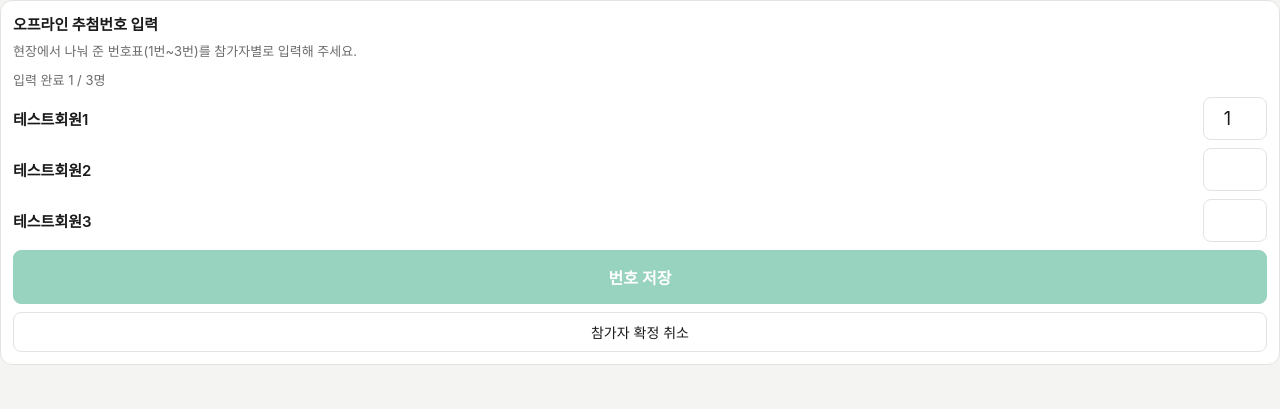
it: drawReady — 번호 입력 › ★ 새로 입력한 번호가 이미 저장된(props) 다른 참가자의 번호와 겹치면 중복으로 잡는다
Type "1" into the number field named "테스트회원2 추첨번호".
click(1235, 169); type("1")  # box [1203, 148, 1267, 190]
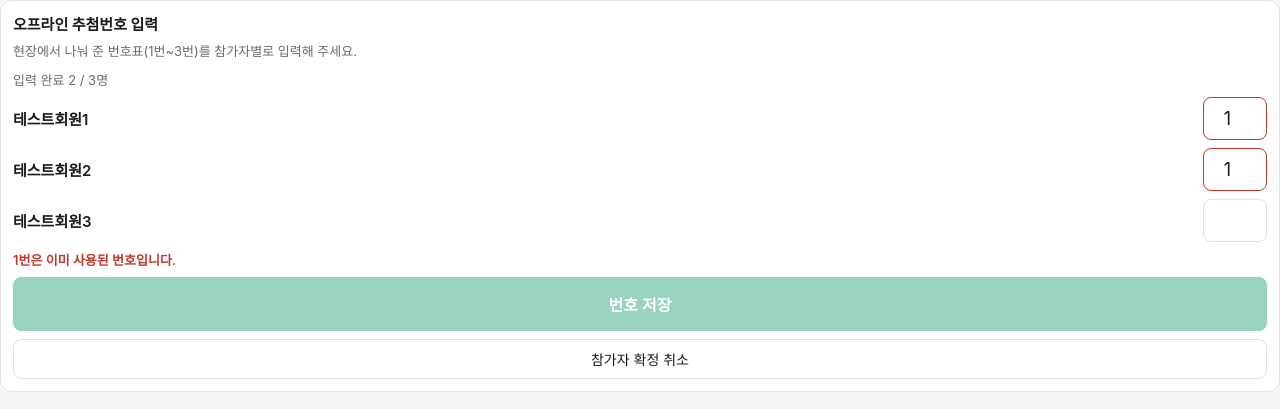
Expected: the button "번호 저장" is disabled, [13, 276, 1267, 330]
Expected: the text "1번은 이미 사용된 번호입니다." is shown, [13, 252, 176, 268]
